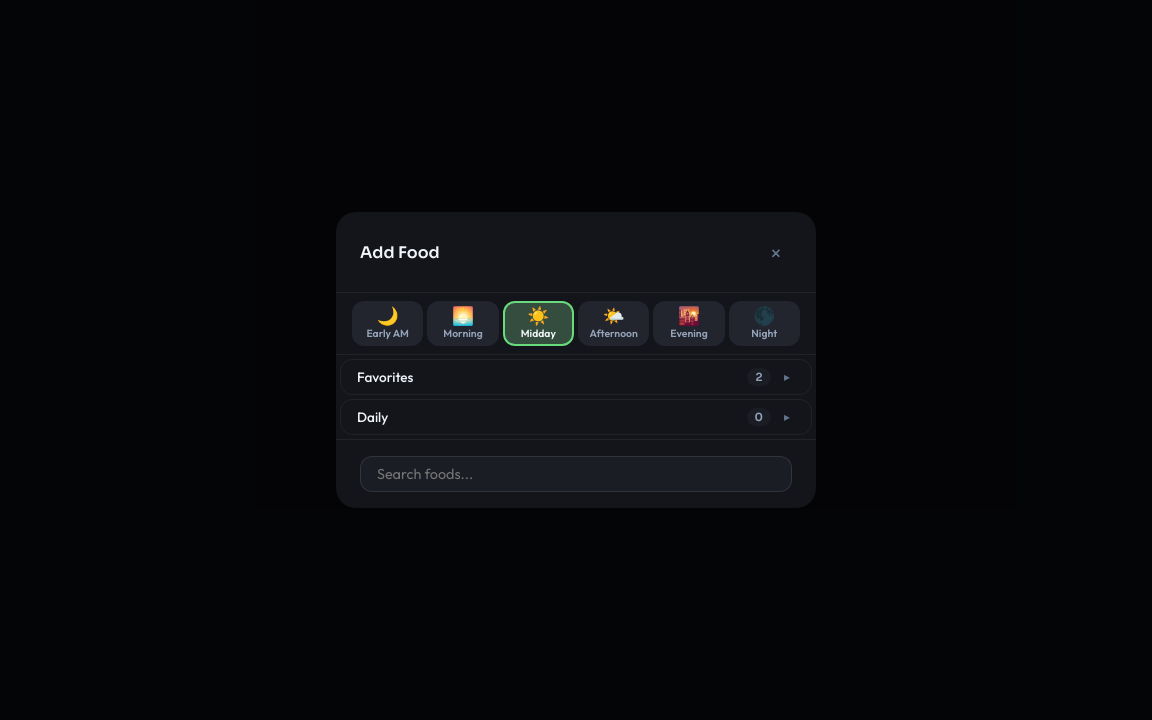
Test case: AddFoodModal › clicking a food toggles selection (shows checkmark)
What coordinates should you click on to do the following:
click the text "Favorites"
I would click on:
 (385, 377)
Its box is [357,368,414,386].
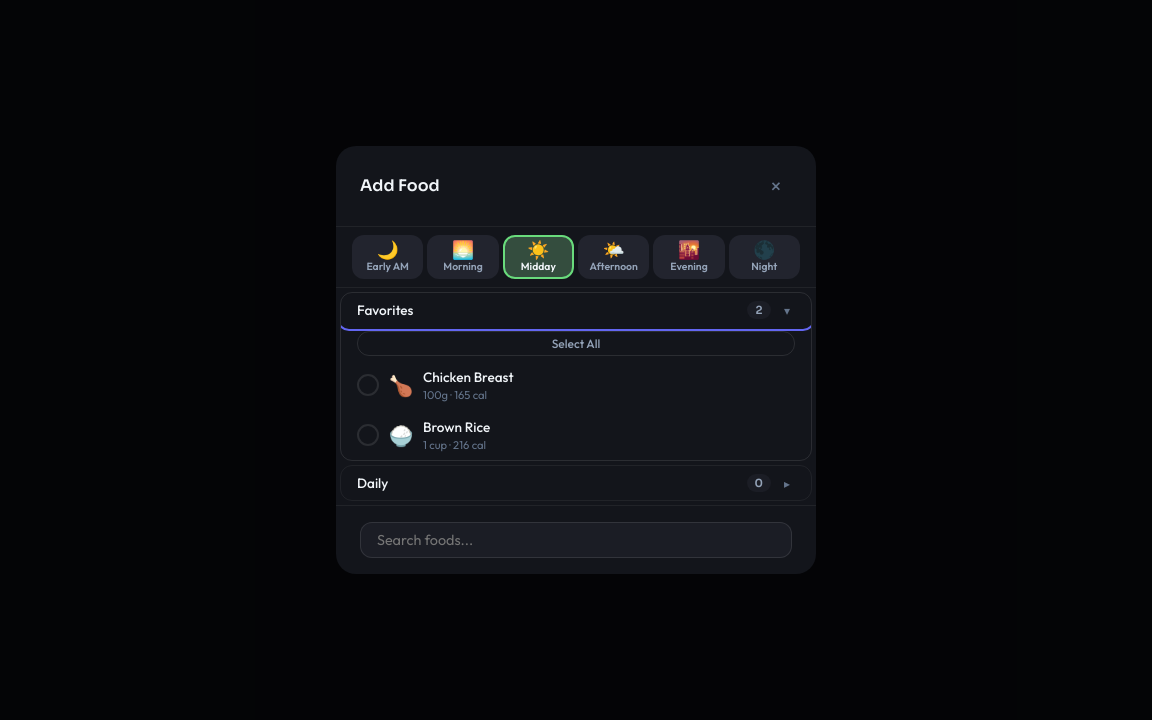
Expected: the text "Chicken Breast" is shown
Click to select
What coordinates should you click on to do the following:
click the text "Chicken Breast"
I would click on:
 (468, 377)
Its box is [423,368,514,386].
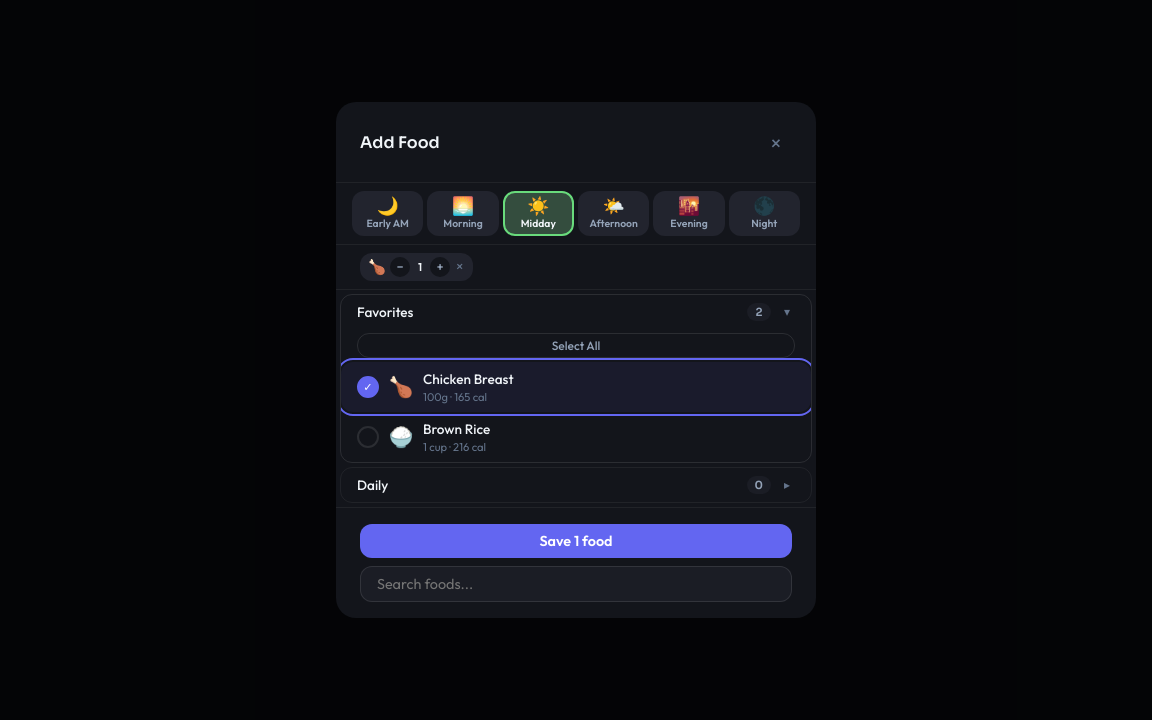
Expected: the text "✓" is shown, [357,376,379,398]
Expected: the button "Save 1 food" is shown, [360,524,792,558]
